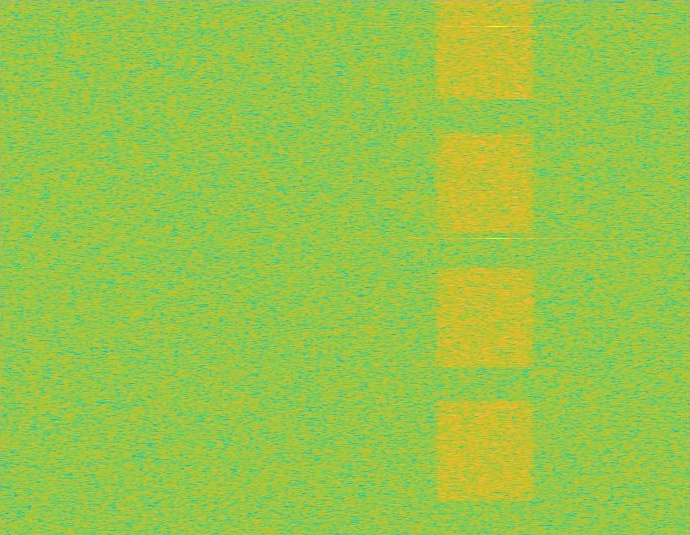5G: (433, 0, 537, 534)
Radar: (490, 0, 504, 534)
